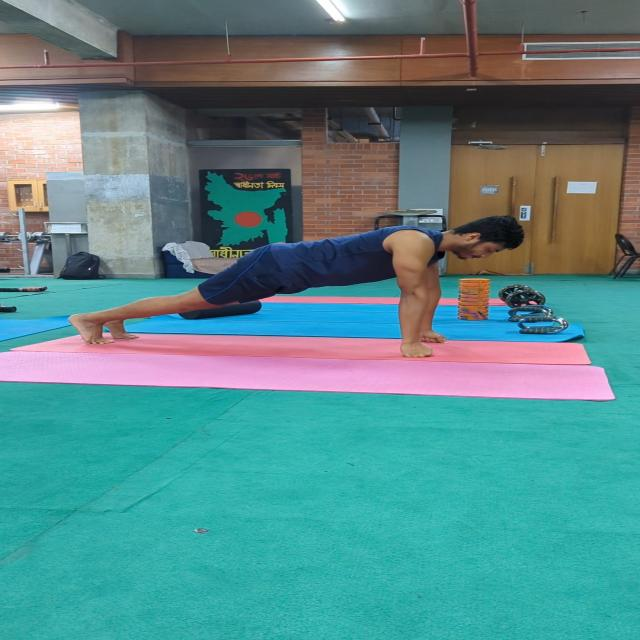Normal_PushUps: (42, 216, 551, 362)
